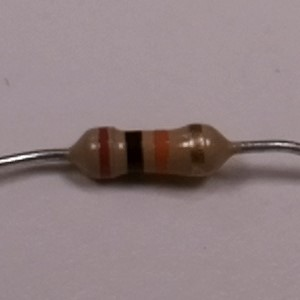black_band: (122, 126, 148, 180)
gold_band: (186, 120, 210, 183)
orange_band: (151, 126, 173, 180)
red_band: (95, 124, 117, 185)
